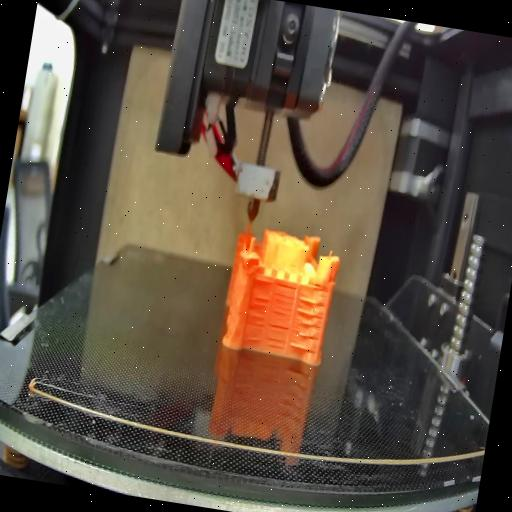cracks: (288, 294, 326, 354), (265, 296, 292, 348), (240, 294, 268, 344), (272, 279, 296, 293), (252, 278, 272, 288)
